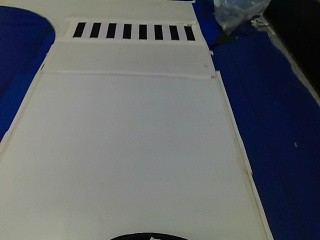crosswalk: (67, 19, 199, 44)
